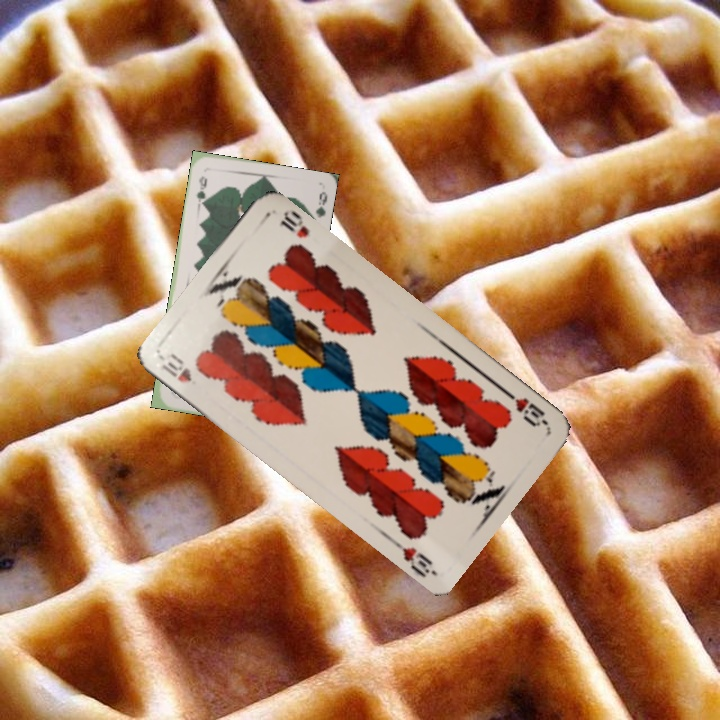G9: (192, 172, 210, 208)
H10: (500, 386, 550, 430), (157, 350, 195, 386)
